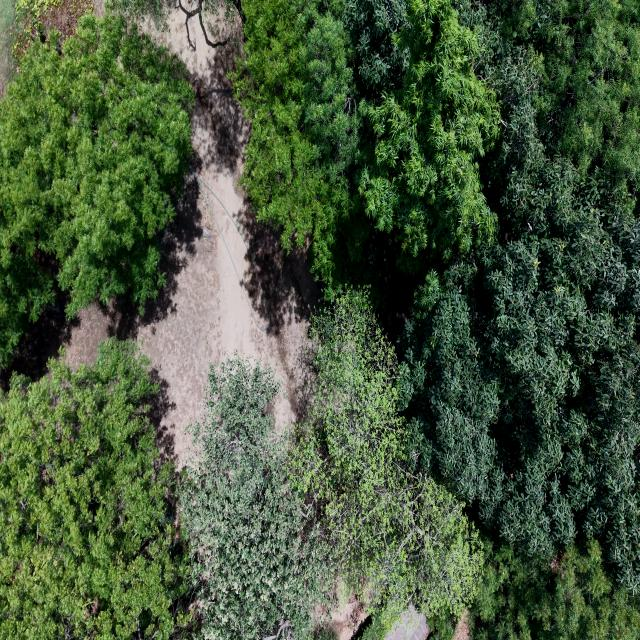DRY_AREA: (2, 9, 320, 468), (12, 9, 321, 468), (67, 10, 319, 467), (386, 606, 429, 639), (0, 0, 14, 97), (453, 613, 470, 639)
VEGETATION_TREE: (0, 0, 639, 639), (262, 0, 639, 613), (404, 3, 639, 593), (179, 290, 484, 639), (235, 0, 499, 298), (0, 15, 193, 365), (292, 290, 483, 636), (0, 339, 191, 639), (180, 356, 329, 639), (234, 0, 368, 291), (359, 0, 499, 272), (492, 0, 639, 192), (471, 541, 639, 639), (106, 0, 245, 50), (343, 0, 408, 95), (3, 0, 93, 63), (13, 0, 61, 52)
